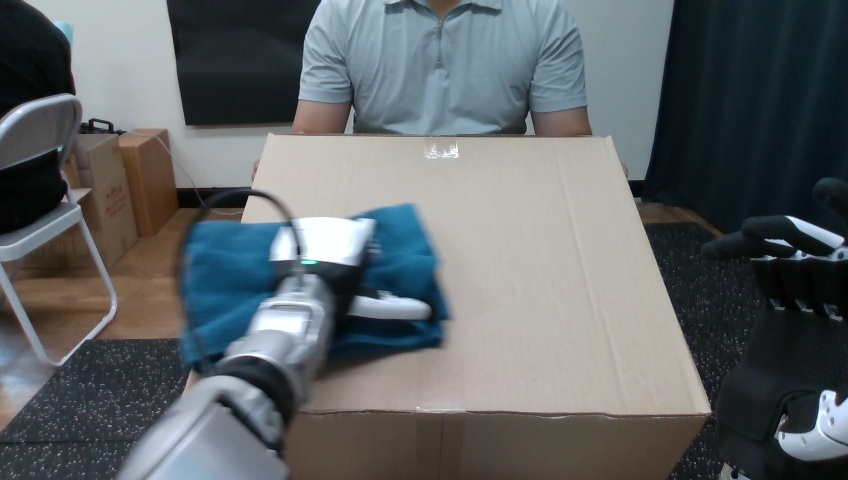left robot hand: (118, 189, 430, 478), (702, 178, 847, 478)
